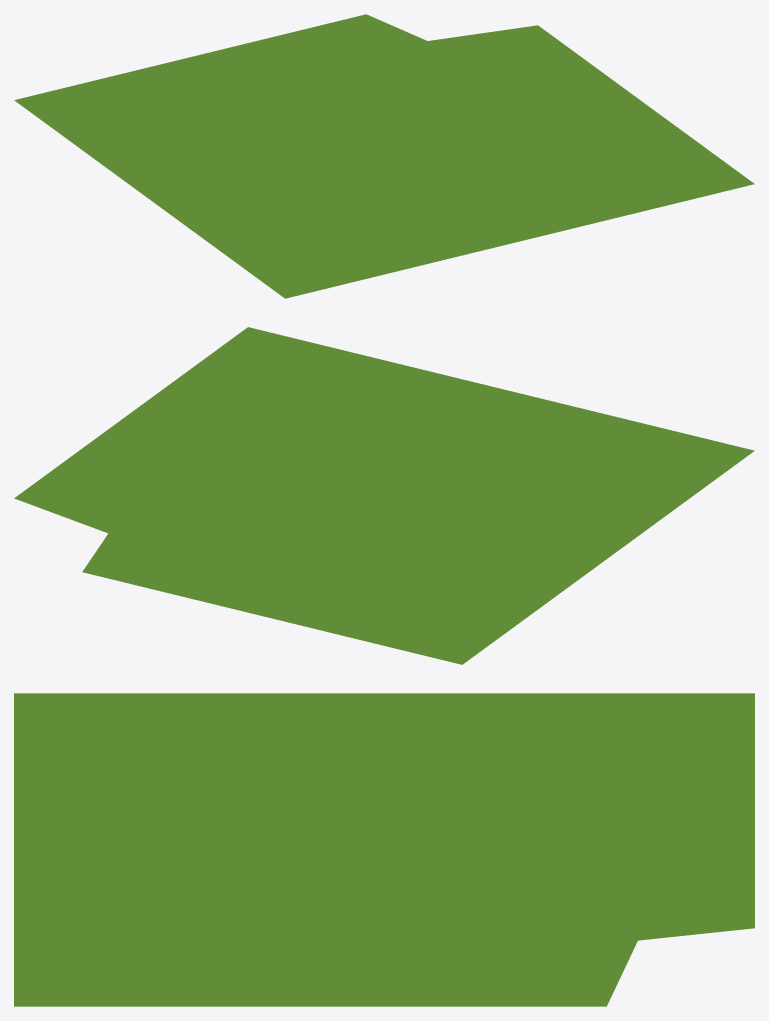
The model's file is terrain.dae.
3 views of the same model, one above another, from view 1: azimuth 30°, elevation 25°; view 2: azimuth 150°, elevation 25°; view 3: azimuth 270°, elevation 25° (orthographic). The views are drawn at different scales.
Visible parts, largest first — view 1: terrain; view 2: terrain; view 3: terrain.
Boxes of the visible parts, bbox=[...] form: terrain: bbox=[14, 14, 754, 298]; terrain: bbox=[14, 327, 754, 664]; terrain: bbox=[14, 693, 754, 1006].
Size of the model in its own units: 100 by 100 by 0.
